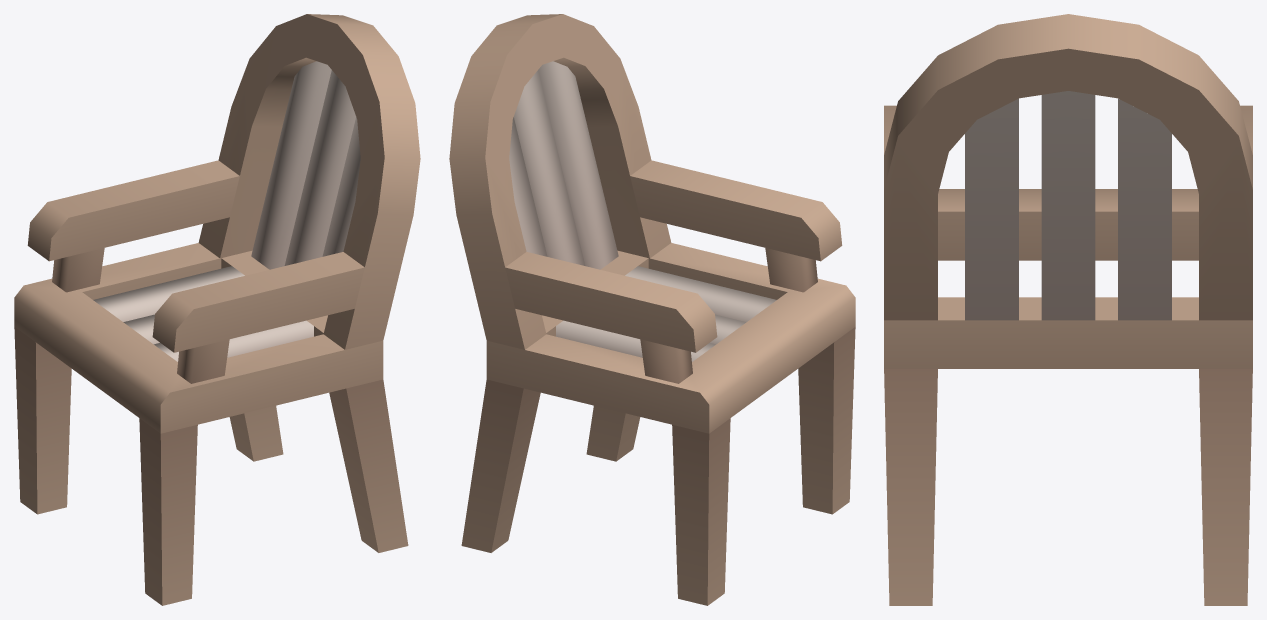
Rendered from wooden-chair-garden-round.glb.
3 views of the same model, side by side, from view 1: azimuth 30°, elevation 25°; view 2: azimuth 150°, elevation 25°; view 3: azimuth 270°, elevation 25° (orthographic). The views are drawn at different scales.
Parts seen in each view (by area): view 1: wooden-chair-garden-round; view 2: wooden-chair-garden-round; view 3: wooden-chair-garden-round.
Boxes of the visible parts, box(x1,y1,x2,y2) form: wooden-chair-garden-round: box(14, 14, 420, 605); wooden-chair-garden-round: box(449, 14, 855, 605); wooden-chair-garden-round: box(884, 14, 1252, 605).
Bounding box in the file's own units: 0.462 × 0.726 × 0.41.
